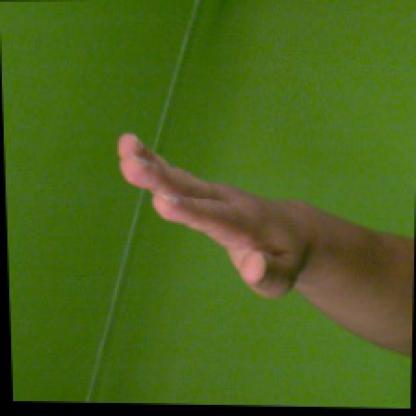Hand: (117, 132, 309, 297)
